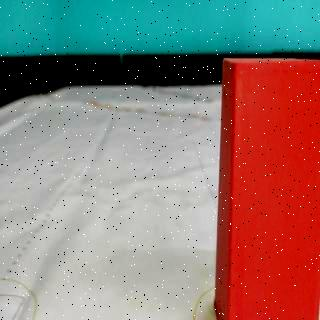redbox: (213, 55, 320, 320)
